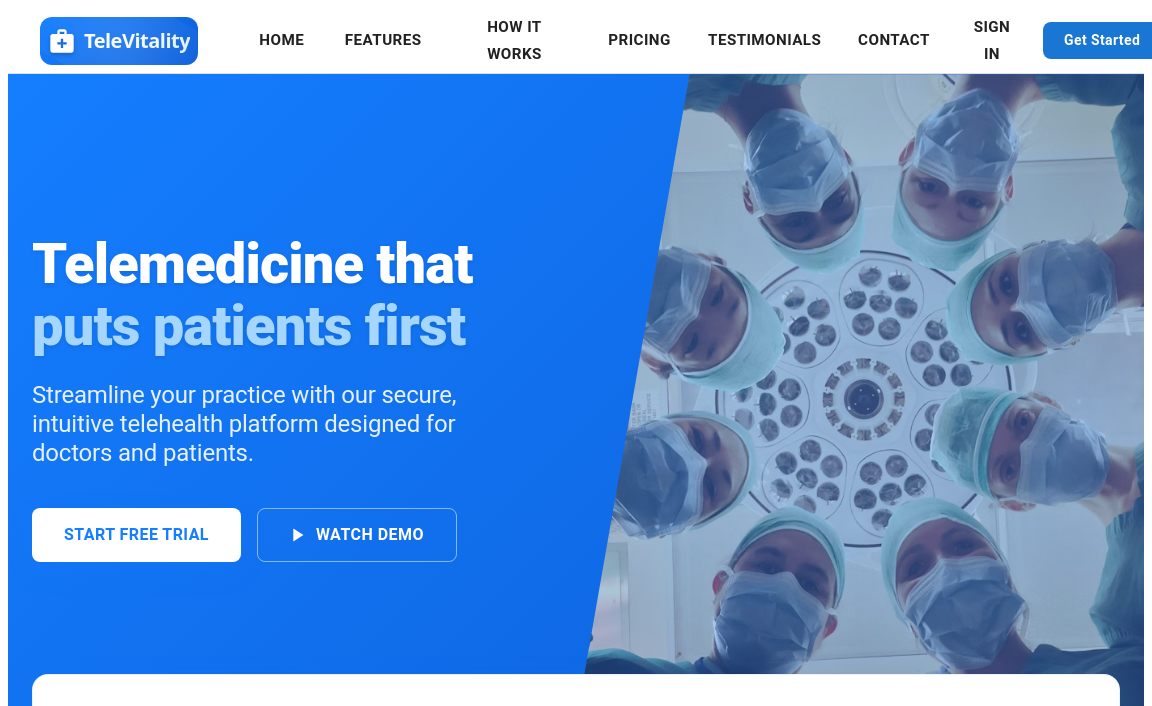
it: Doctor Login Tests › should show error for invalid credentials
The width and height of the screenshot is (1152, 706).
Click the button "Sign In" at point(993, 41), box left=958, top=8, right=1027, bottom=73
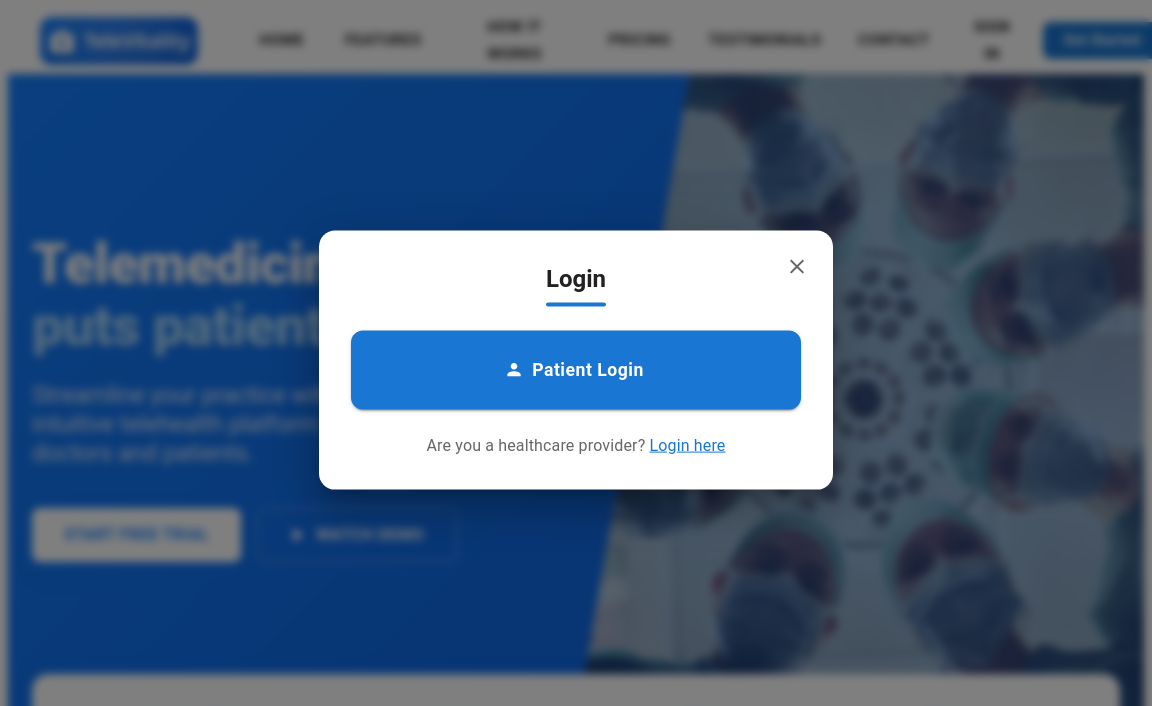
Now the text "Are you a healthcare provider?" is shown, box left=427, top=435, right=650, bottom=454
Click the text "Login here" at point(670, 445), box left=650, top=435, right=726, bottom=454
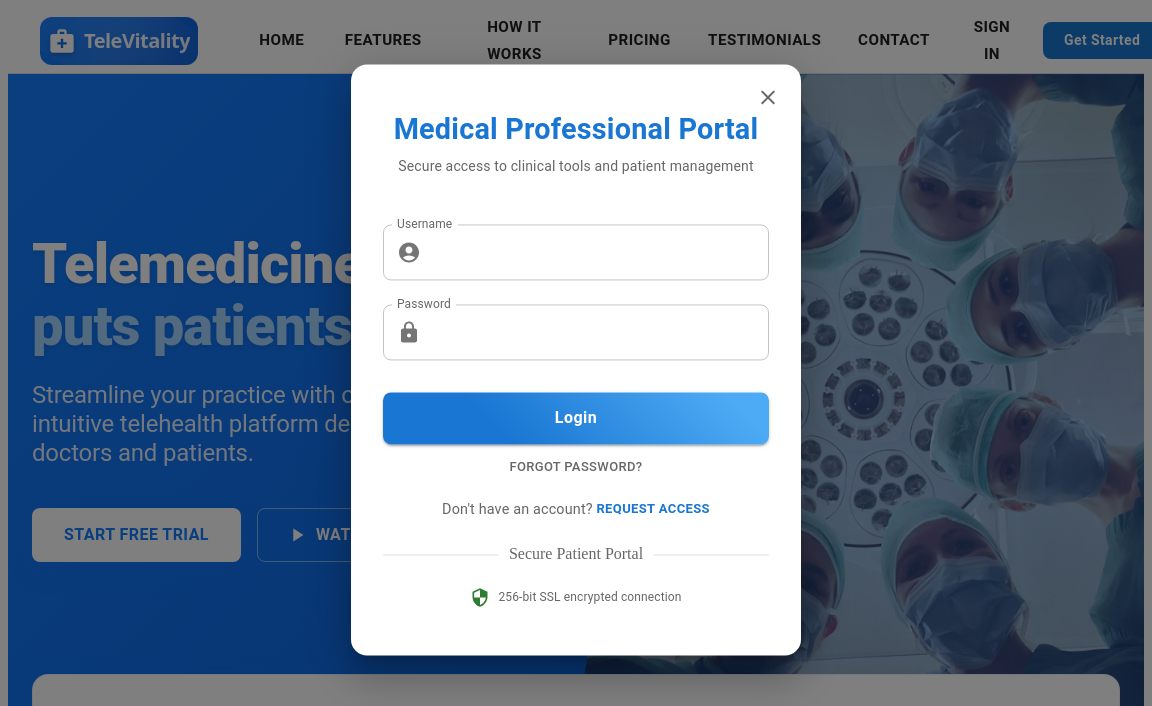
Type "invaliduser" into the field named "username" at point(599, 252), box left=429, top=224, right=769, bottom=280
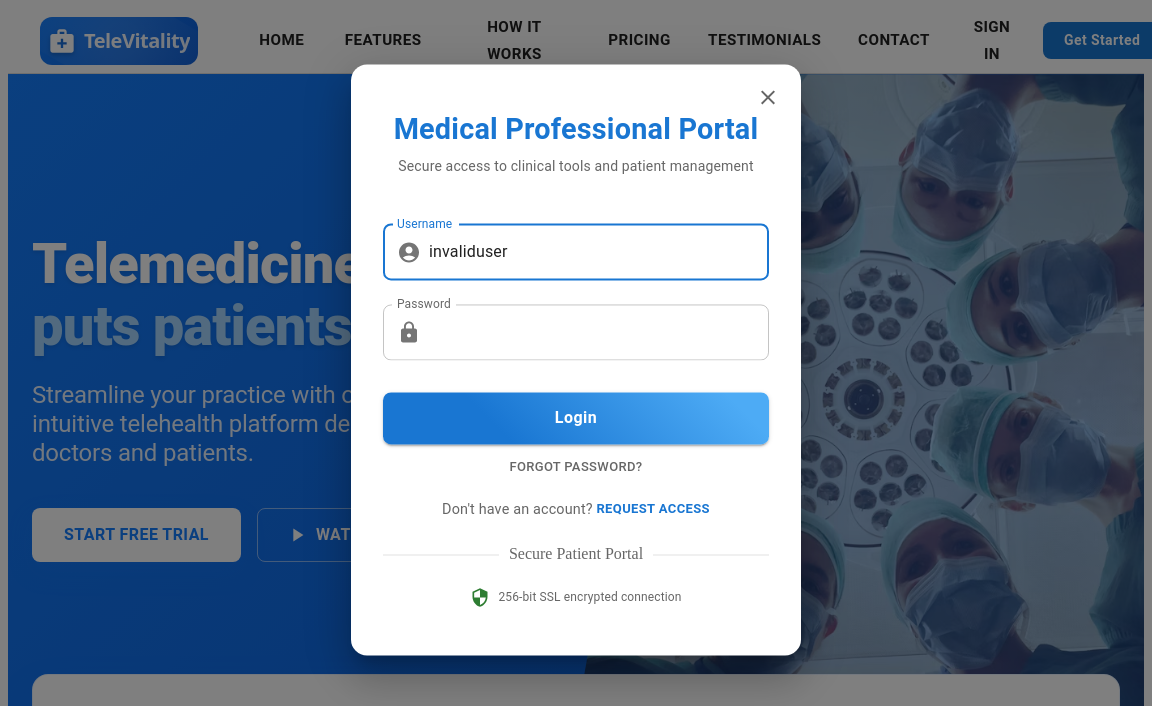
Type "wrongpass" into the password field named "password" at point(599, 332), box left=429, top=304, right=769, bottom=360
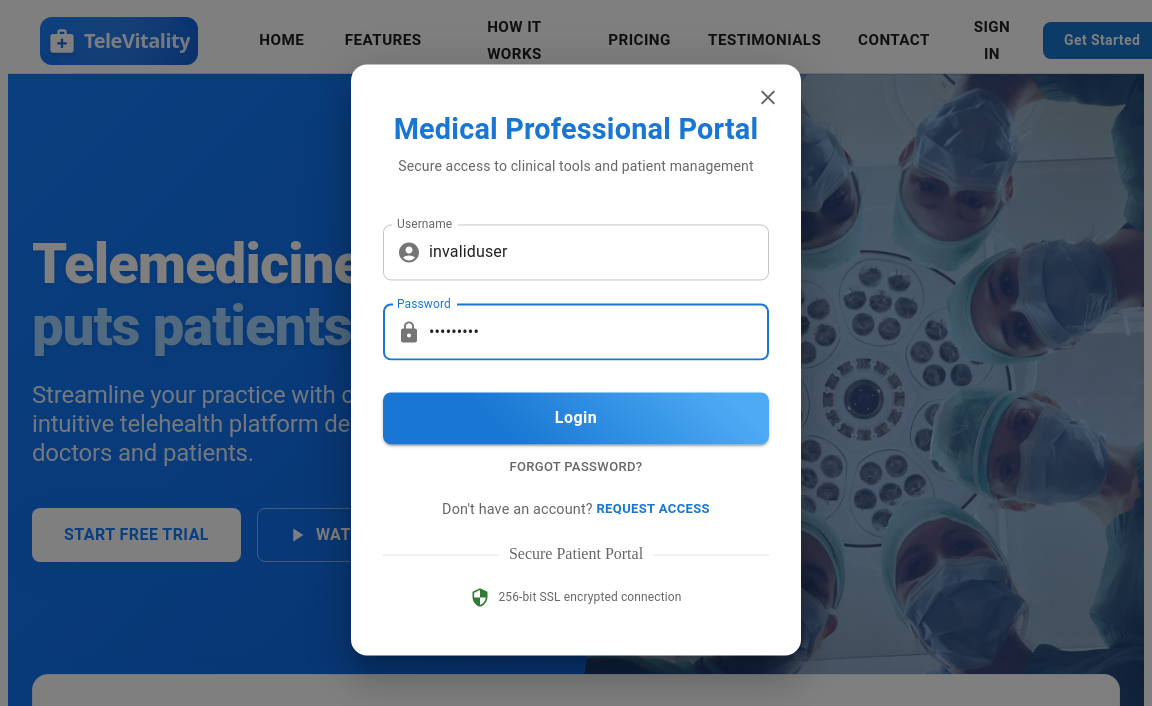
Click the submit button at point(576, 418), box left=383, top=392, right=769, bottom=444
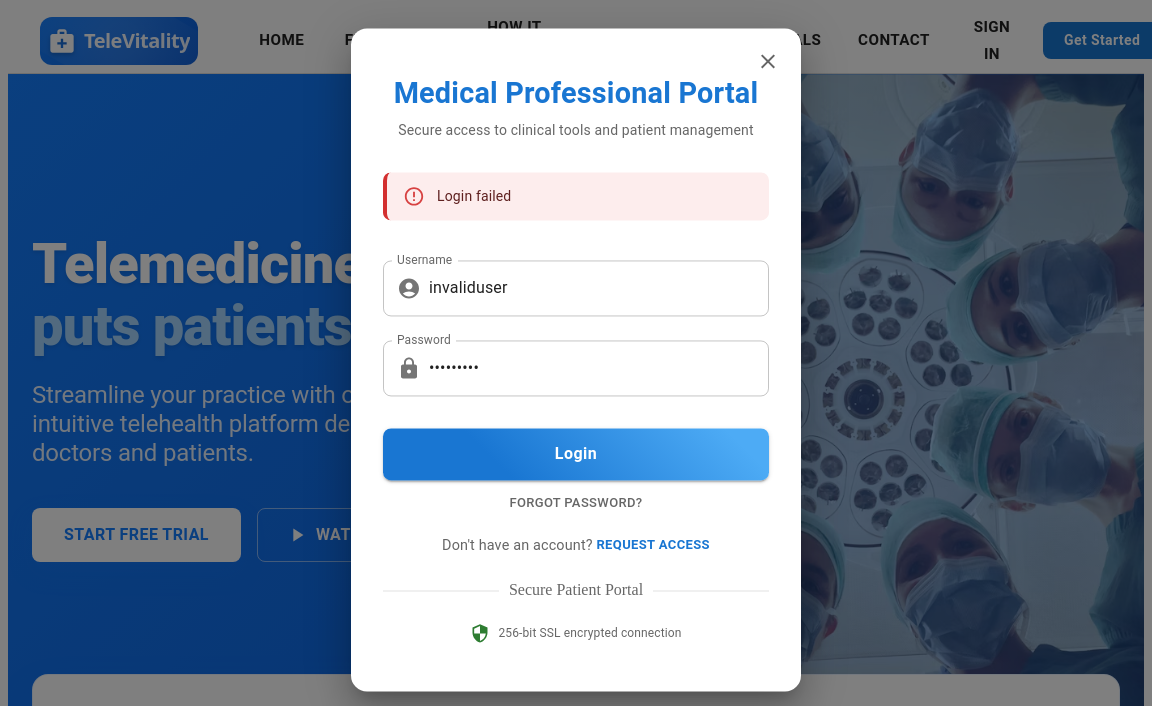
Now the text "Login failed" is shown, box left=437, top=188, right=511, bottom=204
